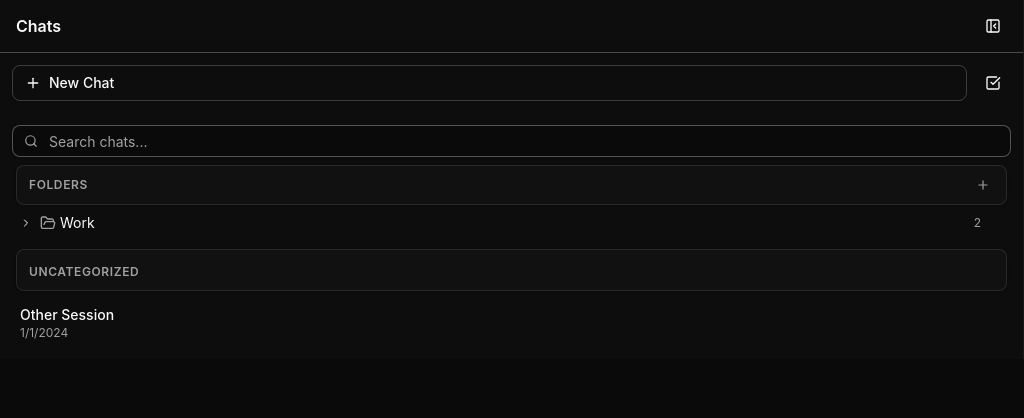
SessionList › Active Folder Filter Display › should show sessions in filtered folder
// Click folder to filter
Click the text "Work": [77, 222] box [60,214,95,231]
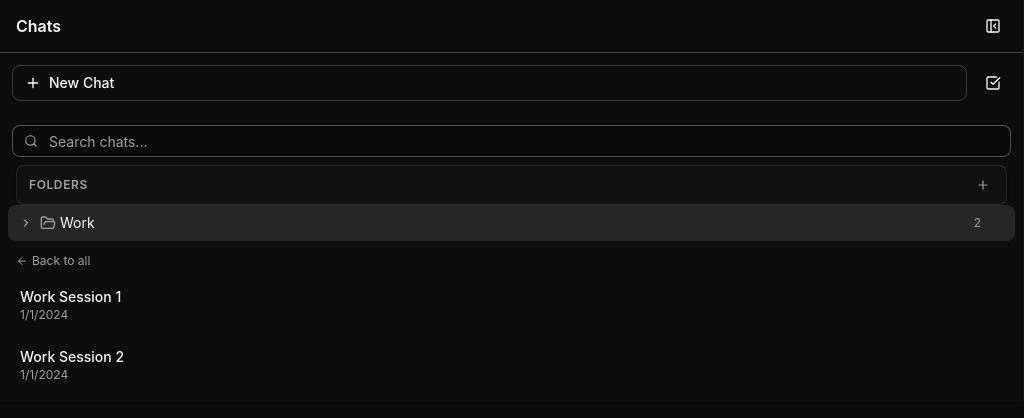
Now the text "Work Session 1" is shown, box [20,288,121,305]
Now the text "Work Session 2" is shown, box [20,348,124,365]
Now the button "Other Session" is gone
